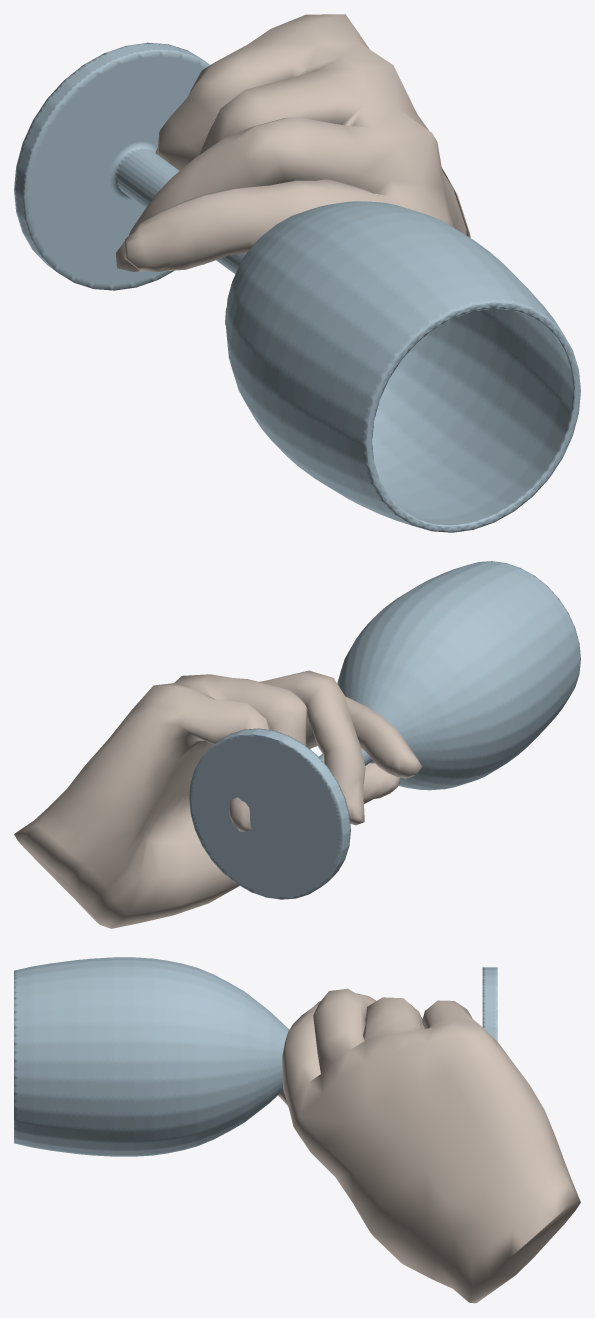
3 views of the same model, one above another, from view 1: azimuth 30°, elevation 25°; view 2: azimuth 150°, elevation 25°; view 3: azimuth 270°, elevation 25° (orthographic). The views are drawn at different scales.
Size of the model in its own units: 0.1329 by 0.097 by 0.2016.
